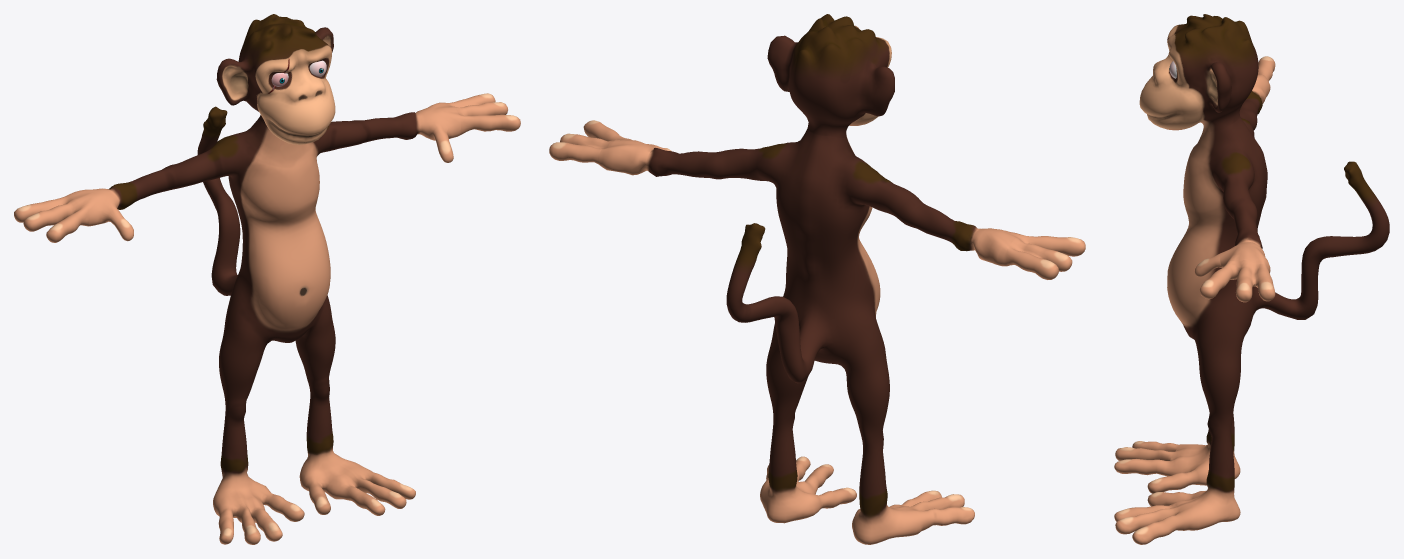
The picture shows the model from 3 angles, left to right: view 1: azimuth 30°, elevation 25°; view 2: azimuth 150°, elevation 25°; view 3: azimuth 270°, elevation 25°; orthographic projection. The views are drawn at different scales.
Visible parts, largest first — view 1: Cabeza; view 2: Cabeza; view 3: Cabeza.
Part boxes in pixels (x1=…): Cabeza: x1=14, y1=14, x2=520, y2=544; Cabeza: x1=549, y1=14, x2=1085, y2=544; Cabeza: x1=1114, y1=14, x2=1389, y2=544.
Bounding box in the file's own units: 5.18 × 4.91 × 2.54.
2 materials, 2 textured.
